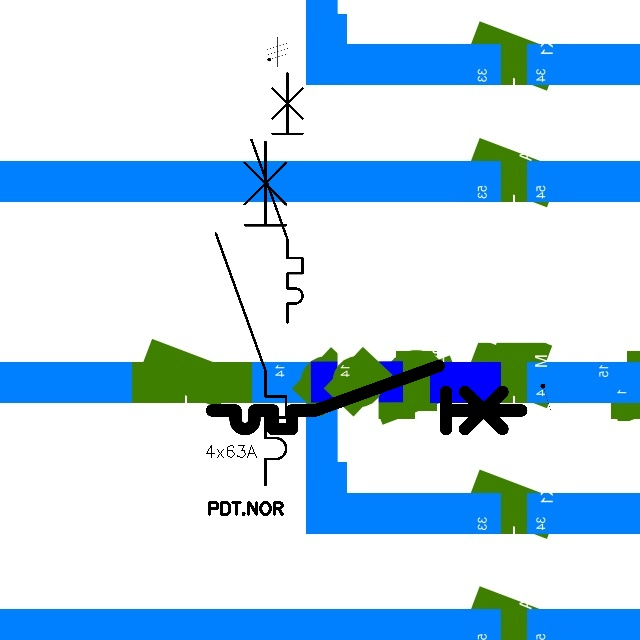interruptor_termomagnetico: (207, 133, 295, 494), (204, 358, 529, 437), (245, 66, 309, 328)
